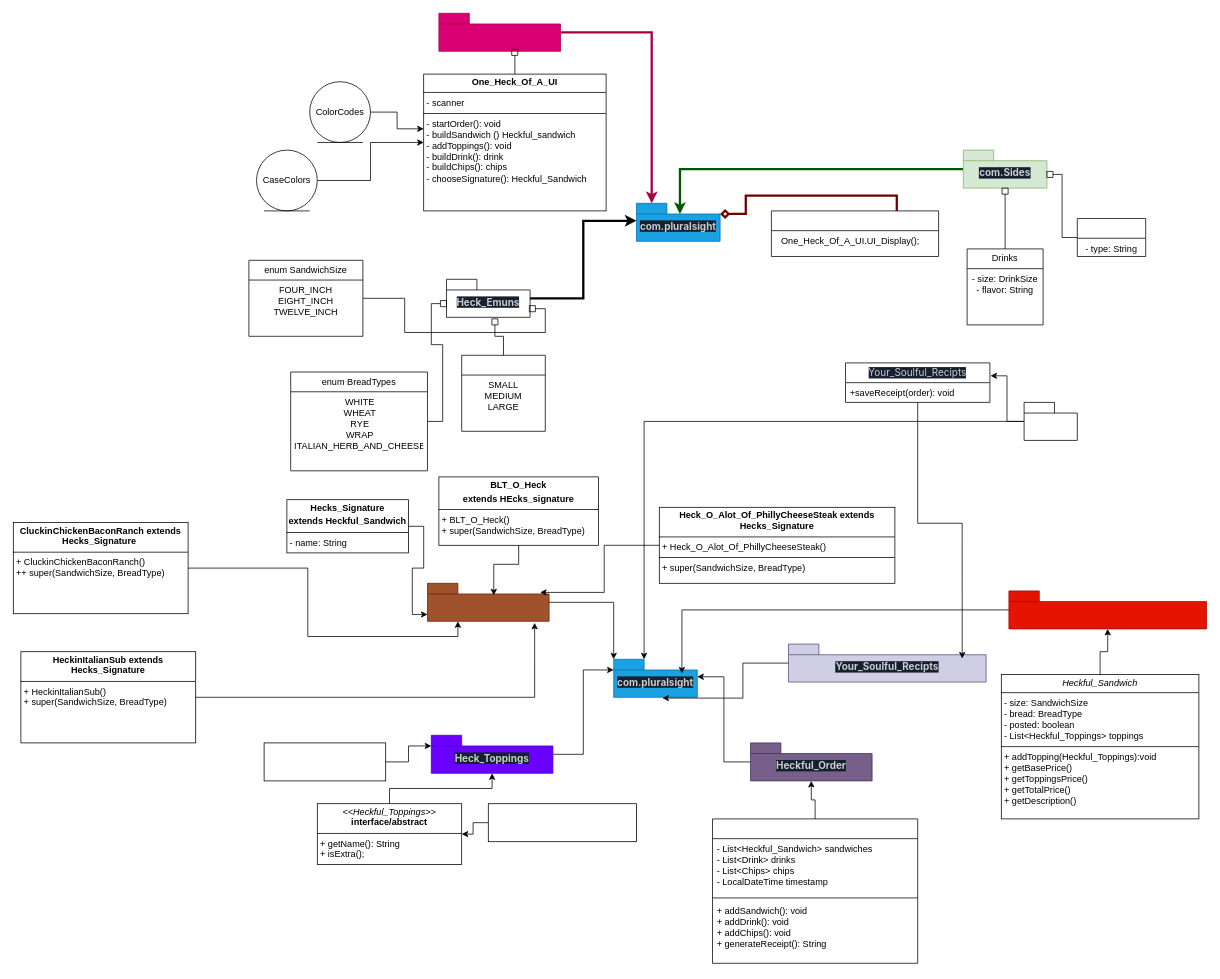
The diagram is 1220 pixels wide and 979 high, and some of its shapes have lost their labels. Here are the shapes that lost their labels. From the top down, the box of each, then its label:
(438, 13, 560, 51): UI_OF_THE_DANGED
(771, 210, 939, 256): One_Heck_Of_A_Main
(1077, 218, 1146, 256): Chips
(461, 355, 545, 431): enum DrinkSize
(1023, 402, 1077, 440): receipts
(427, 583, 549, 621): Hecks_Signatures
(1008, 590, 1206, 629): One_Heck_of_a_Sandwich_Package
(263, 742, 386, 781): Heckful_RegularToppings - name: String
(488, 803, 636, 842): Heckful_PremiumToppings - name: String
(712, 818, 918, 963): Heck_Order
